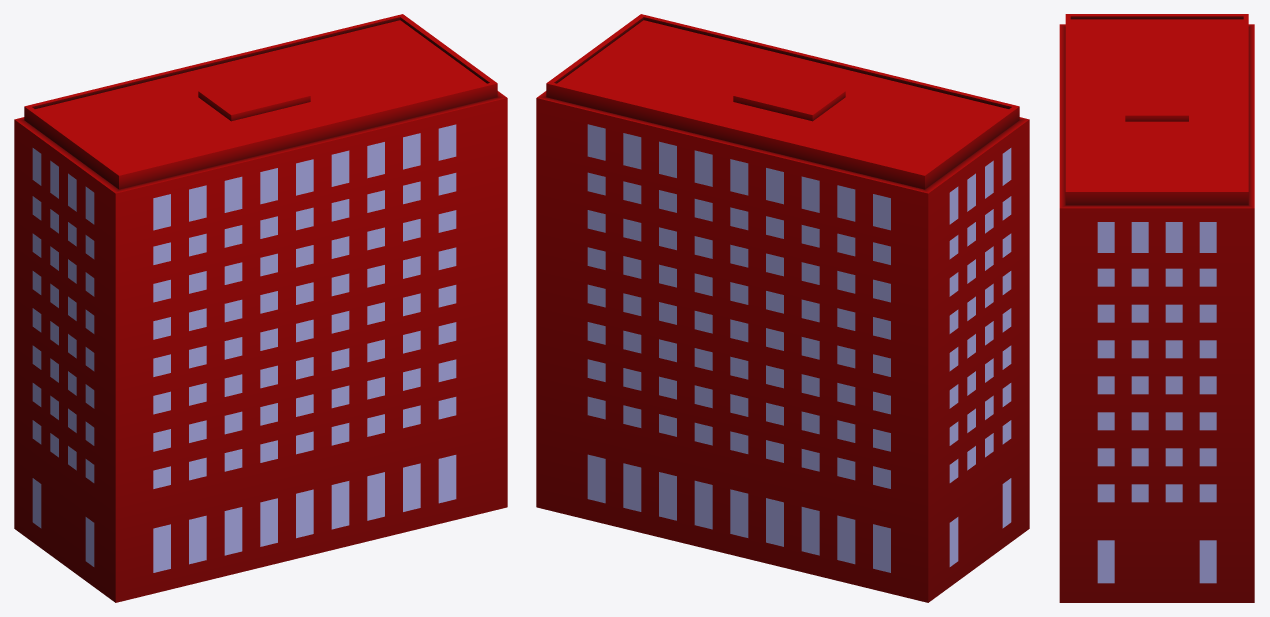
Rendered from buildings-industrial-officebuilding_v4.fbx.
3 views of the same model, side by side, from view 1: azimuth 30°, elevation 25°; view 2: azimuth 150°, elevation 25°; view 3: azimuth 270°, elevation 25° (orthographic). The views are drawn at different scales.
Parts seen in each view (by area): view 1: OfficeBuilding_v4_base, OfficeBuilding_v4_windowRefl; view 2: OfficeBuilding_v4_base, OfficeBuilding_v4_windowRefl; view 3: OfficeBuilding_v4_base, OfficeBuilding_v4_windowRefl.
Boxes of the visible parts, x1,y1,x2,y2 form: OfficeBuilding_v4_base: [14, 14, 507, 602]; OfficeBuilding_v4_windowRefl: [32, 124, 456, 572]; OfficeBuilding_v4_base: [536, 14, 1029, 602]; OfficeBuilding_v4_windowRefl: [587, 124, 1011, 572]; OfficeBuilding_v4_base: [1059, 14, 1254, 602]; OfficeBuilding_v4_windowRefl: [1097, 222, 1216, 583].
Size of the model in its own units: 24.37 by 25.11 by 10.96.
